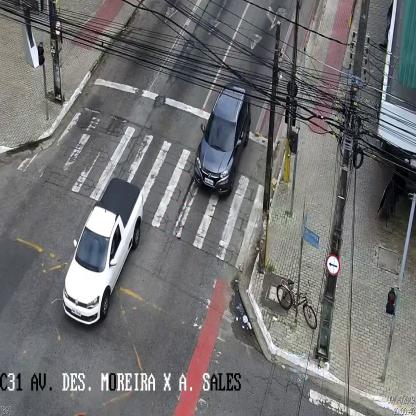bicycle: (276, 279, 317, 332)
car: (62, 176, 143, 324), (195, 83, 250, 199)
